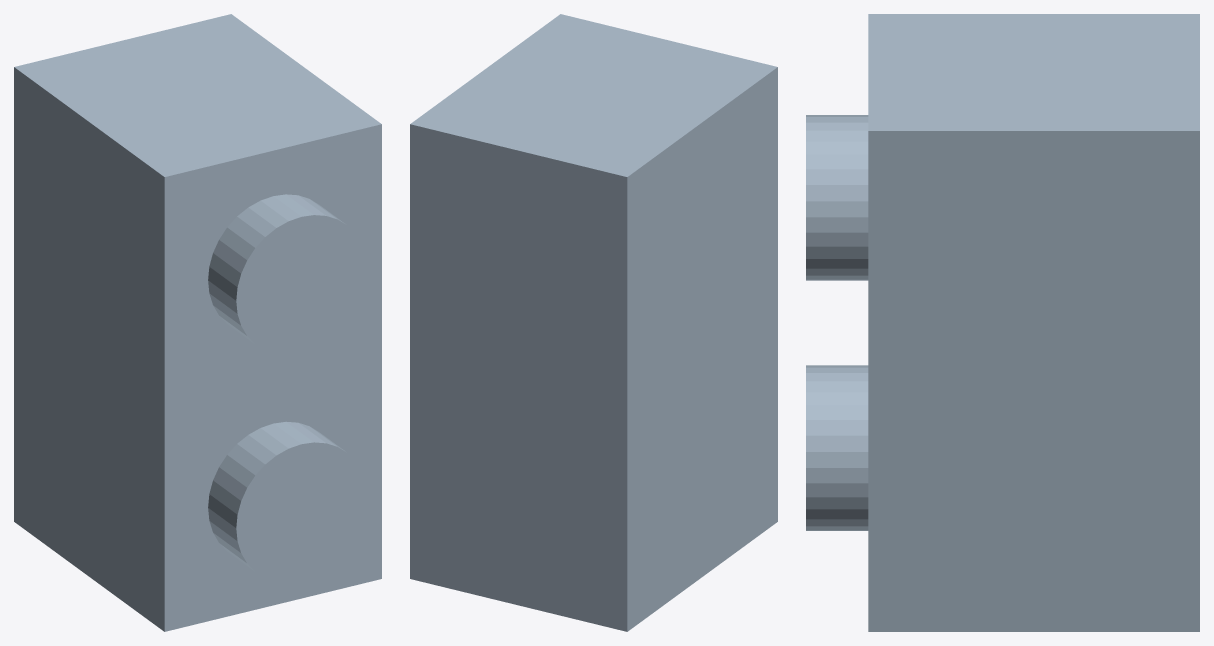
Rendered from brick_3.glb.
The picture shows the model from 3 angles, left to right: view 1: azimuth 30°, elevation 25°; view 2: azimuth 150°, elevation 25°; view 3: azimuth 270°, elevation 25°; orthographic projection. The views are drawn at different scales.
Visible parts, largest first — view 1: world; view 2: world; view 3: world.
Boxes of the visible parts, x1,y1,x2,y2 form: world: (14, 14, 381, 631); world: (410, 14, 777, 631); world: (806, 14, 1199, 631).
Size of the model in its own units: 8 by 16 by 11.4.
